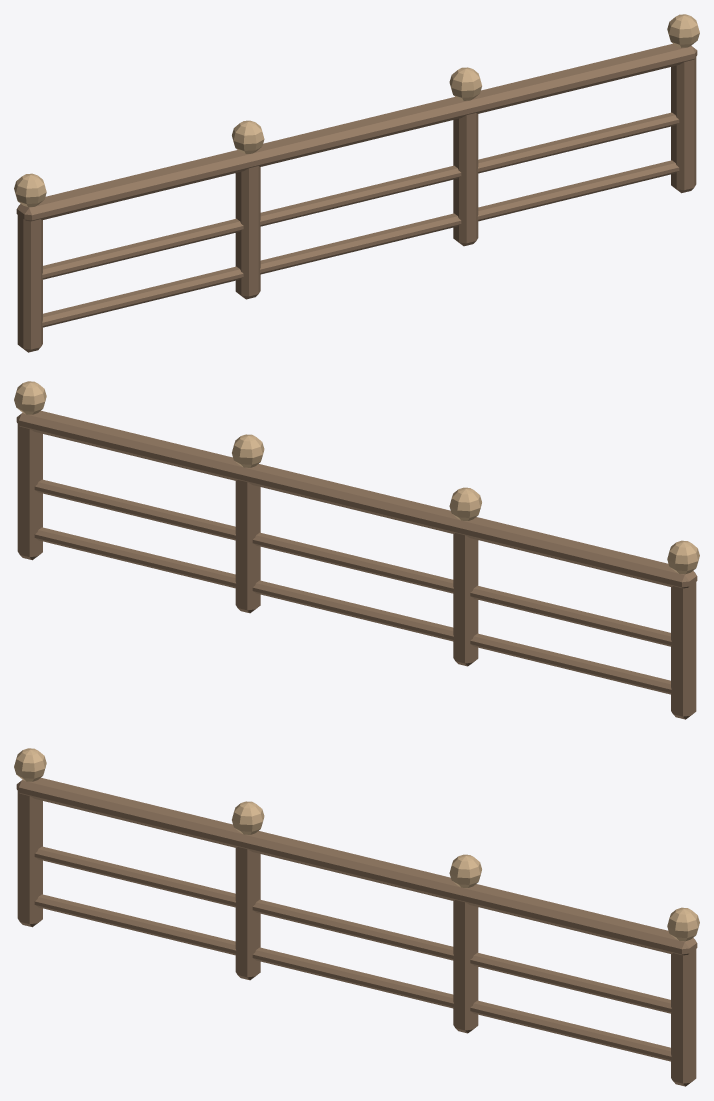
Rendered from feudal-japan-castle-town-veranda-rail-8398e602__26327.glb.
3 renders of one model, top to bottom at view 1: azimuth 30°, elevation 25°; view 2: azimuth 150°, elevation 25°; view 3: azimuth 330°, elevation 25°, orthographic.
Parts seen in each view (by area): view 1: veranda-rail; view 2: veranda-rail; view 3: veranda-rail.
Boxes of the visible parts, left/top/right/bottom form: veranda-rail: left=14, top=14, right=699, bottom=352; veranda-rail: left=14, top=381, right=699, bottom=719; veranda-rail: left=14, top=748, right=699, bottom=1086.
Bounding box in the file's own units: 4.18 × 1.02 × 0.1801.
